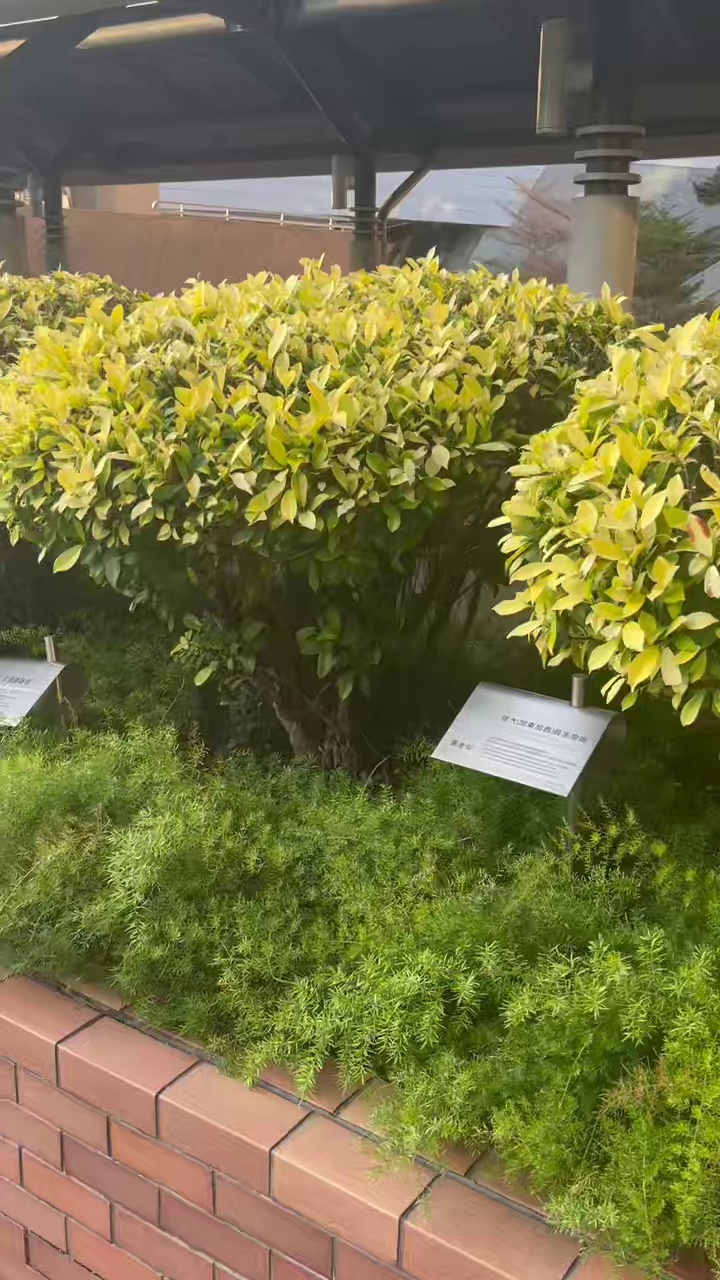Golden-leaves Fig: (0, 256, 621, 761)
